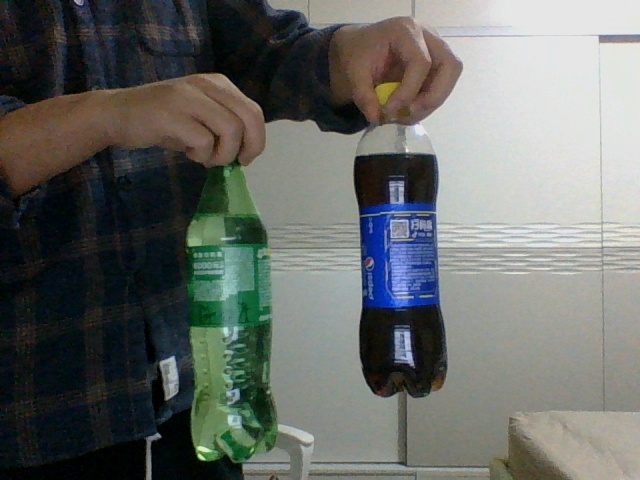Cola: (354, 81, 449, 398)
Sprite: (184, 139, 279, 463)
